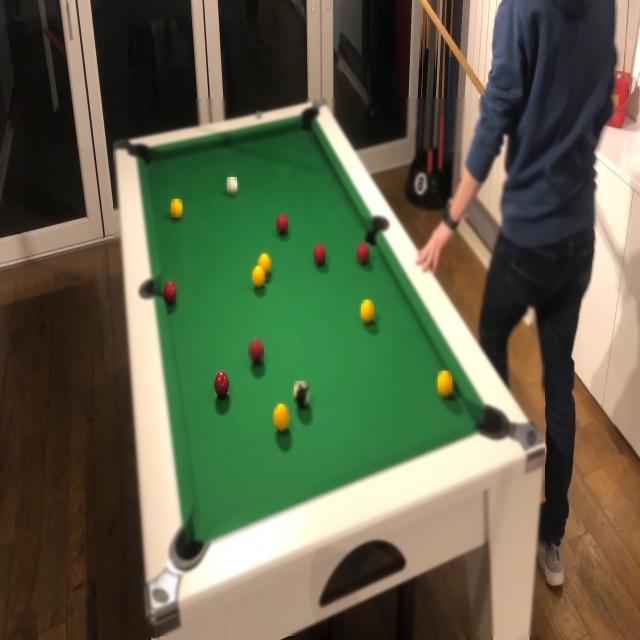Ball: (274, 404, 289, 432), (248, 338, 264, 364), (214, 372, 229, 398), (294, 381, 309, 407), (438, 371, 452, 398), (361, 300, 374, 324), (164, 281, 176, 304), (253, 266, 265, 288), (258, 254, 271, 274), (357, 243, 369, 264), (314, 243, 325, 265), (277, 216, 288, 236), (171, 199, 182, 217), (227, 178, 237, 195)
Billiard table: (113, 98, 545, 636)
